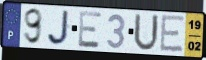3: (106, 12, 127, 50)
9: (21, 7, 45, 46)
E: (159, 13, 186, 54), (78, 10, 104, 49)
J: (46, 10, 71, 47)
U: (132, 12, 160, 53)
